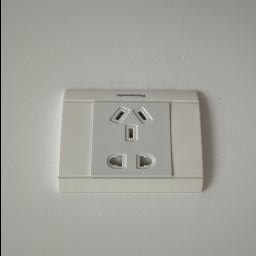outlet: (46, 70, 218, 202)
